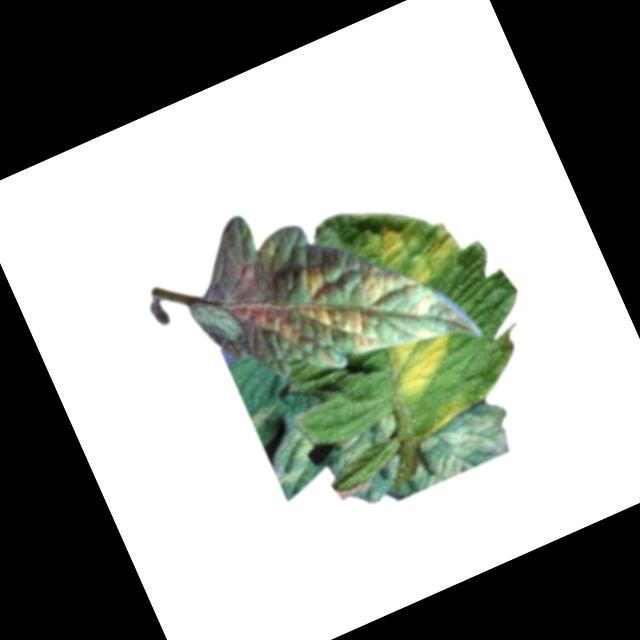Leaf_Mold: (369, 200, 472, 299), (406, 397, 519, 486), (298, 277, 392, 372), (379, 322, 468, 401), (245, 293, 306, 358), (355, 245, 415, 310), (298, 262, 335, 298), (406, 289, 440, 320)
